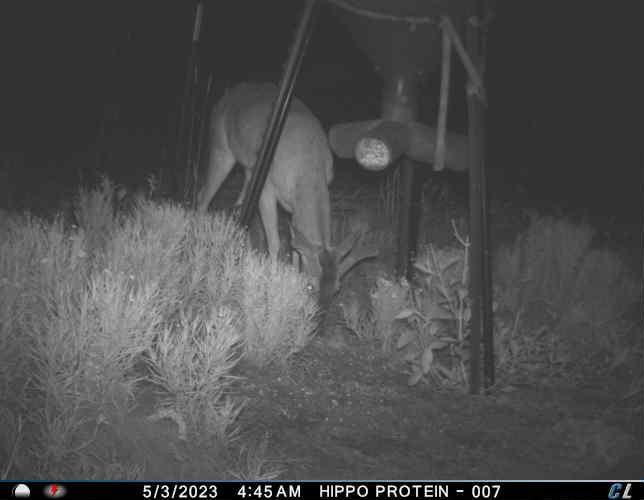Deer: (194, 79, 381, 326)
